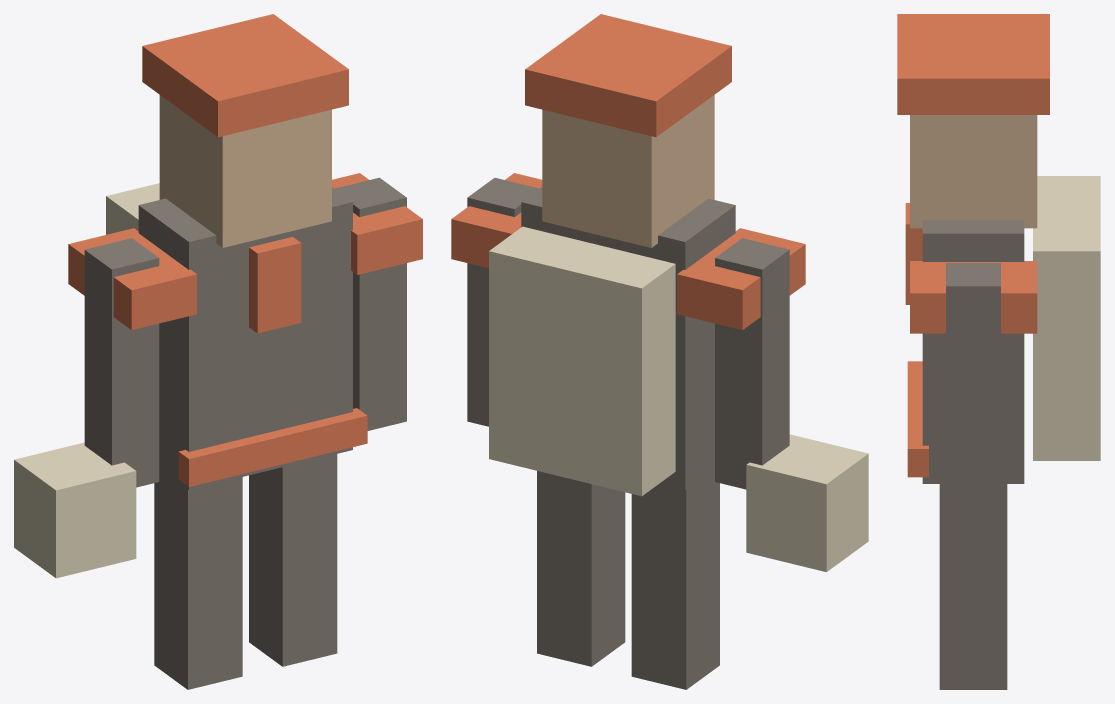
Rendered from 17_selka_mossguard_custodian_at_quarantine.glb.
3 renders of one model, left to right at view 1: azimuth 30°, elevation 25°; view 2: azimuth 150°, elevation 25°; view 3: azimuth 270°, elevation 25°, orthographic.
Parts seen in each view (by area): view 1: Selka Mossguard, Custodian at Quarantine; view 2: Selka Mossguard, Custodian at Quarantine; view 3: Selka Mossguard, Custodian at Quarantine.
Part boxes in pixels (x1=…): Selka Mossguard, Custodian at Quarantine: x1=14, y1=14, x2=422, y2=689; Selka Mossguard, Custodian at Quarantine: x1=451, y1=14, x2=868, y2=689; Selka Mossguard, Custodian at Quarantine: x1=897, y1=14, x2=1100, y2=689.
Bounding box in the file's own units: 1.05 × 1.66 × 0.5057.
